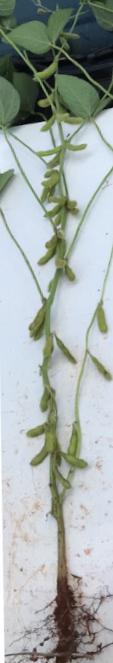soja: (21, 300, 49, 334), (54, 331, 79, 368), (89, 350, 113, 387), (32, 57, 67, 81), (95, 301, 113, 340), (58, 453, 92, 473), (29, 142, 64, 159), (36, 250, 60, 272), (31, 320, 52, 345), (45, 152, 70, 173), (56, 468, 76, 494), (38, 171, 64, 190), (31, 444, 52, 466), (38, 202, 63, 220), (64, 139, 96, 153), (25, 422, 49, 440), (38, 385, 52, 415), (41, 112, 60, 134), (32, 188, 61, 202), (69, 426, 81, 459), (38, 93, 63, 108), (61, 116, 87, 129), (57, 27, 79, 42), (45, 431, 60, 452), (64, 266, 79, 287), (51, 214, 68, 232), (57, 37, 75, 53), (68, 202, 81, 220), (41, 236, 63, 246)
